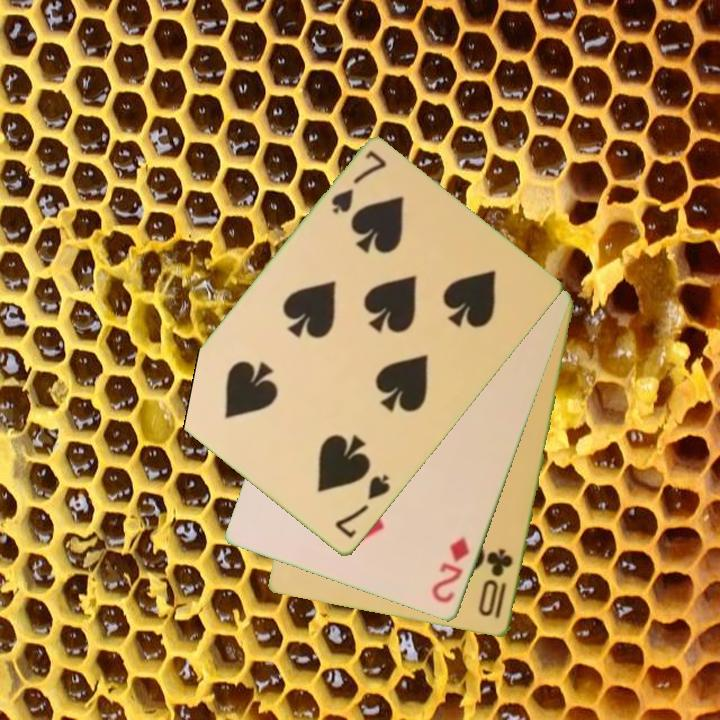10c: (476, 546, 516, 623)
2d: (428, 534, 473, 607)
7s: (331, 471, 394, 542), (327, 147, 390, 218)
